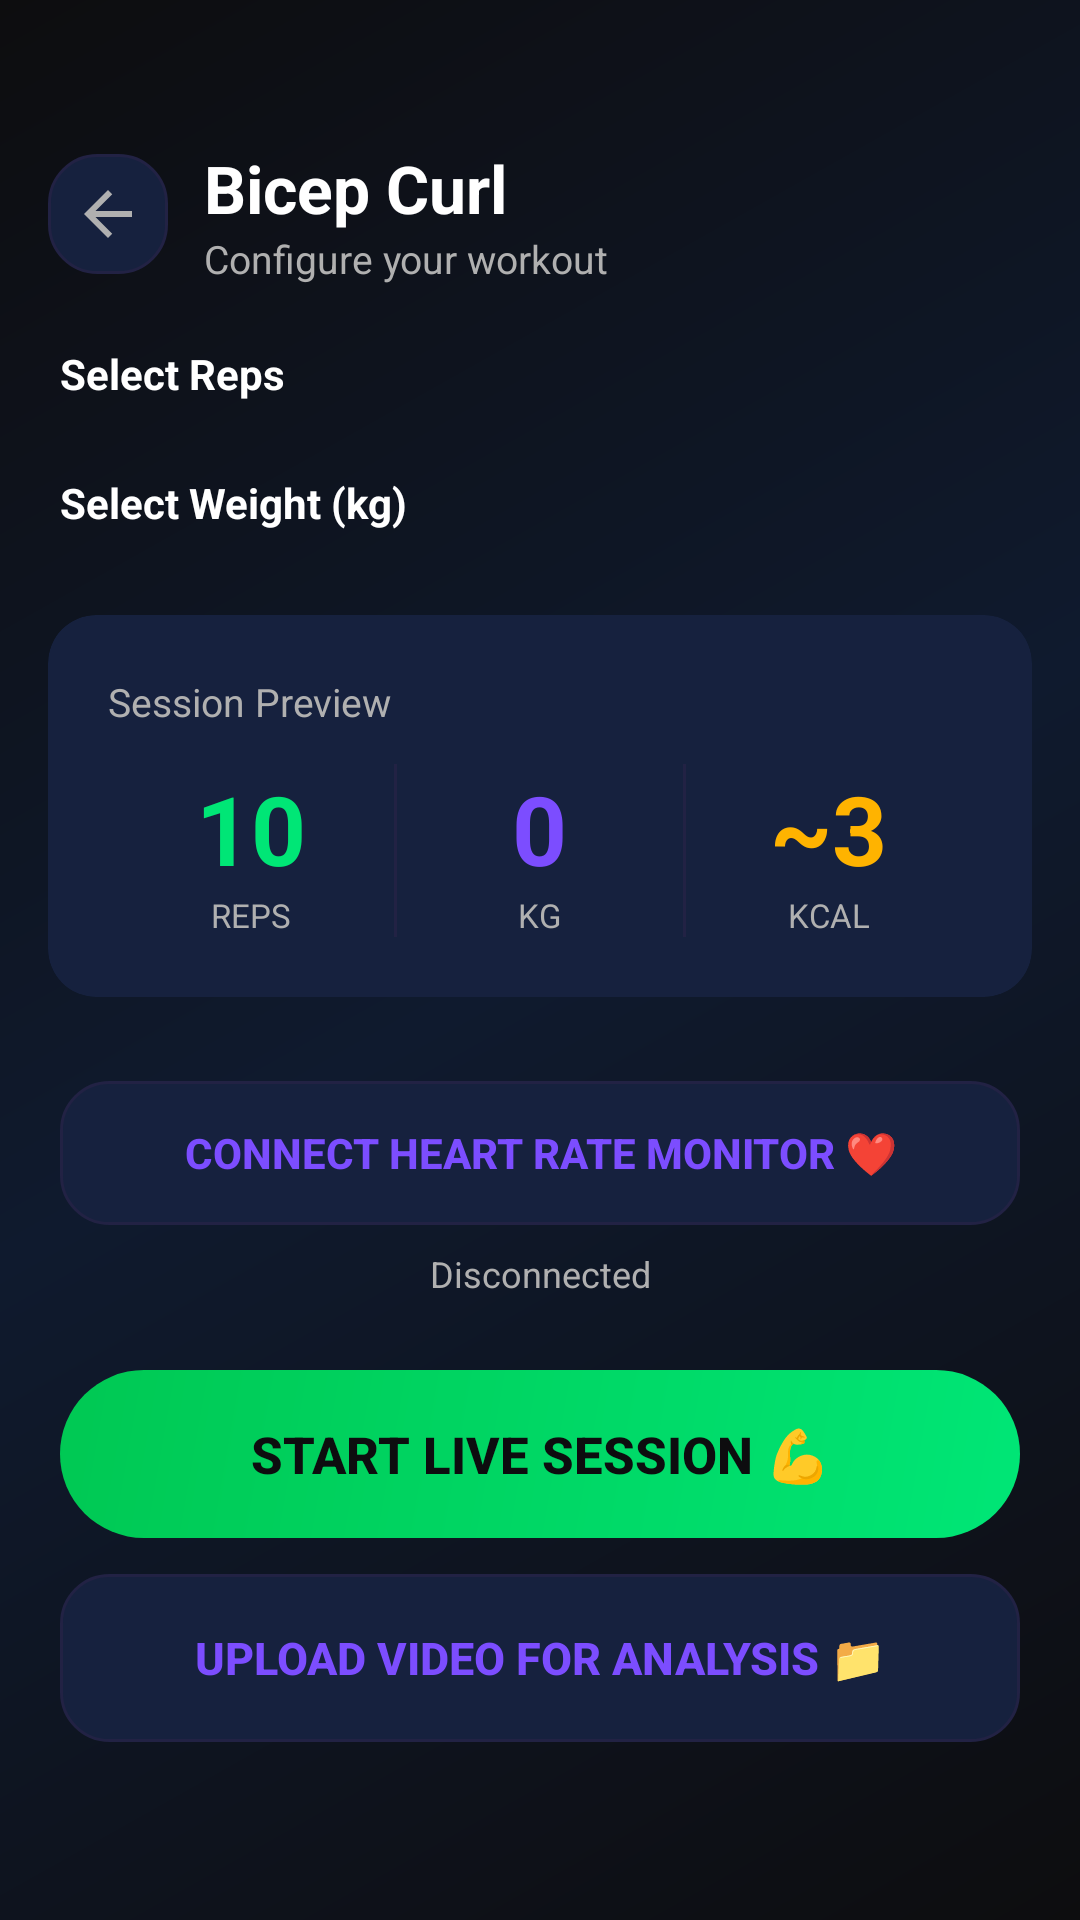

Icons on this 1080 x 1920 Android screen, each with the point to tap as point (x, y):
Back: point (108, 214)
